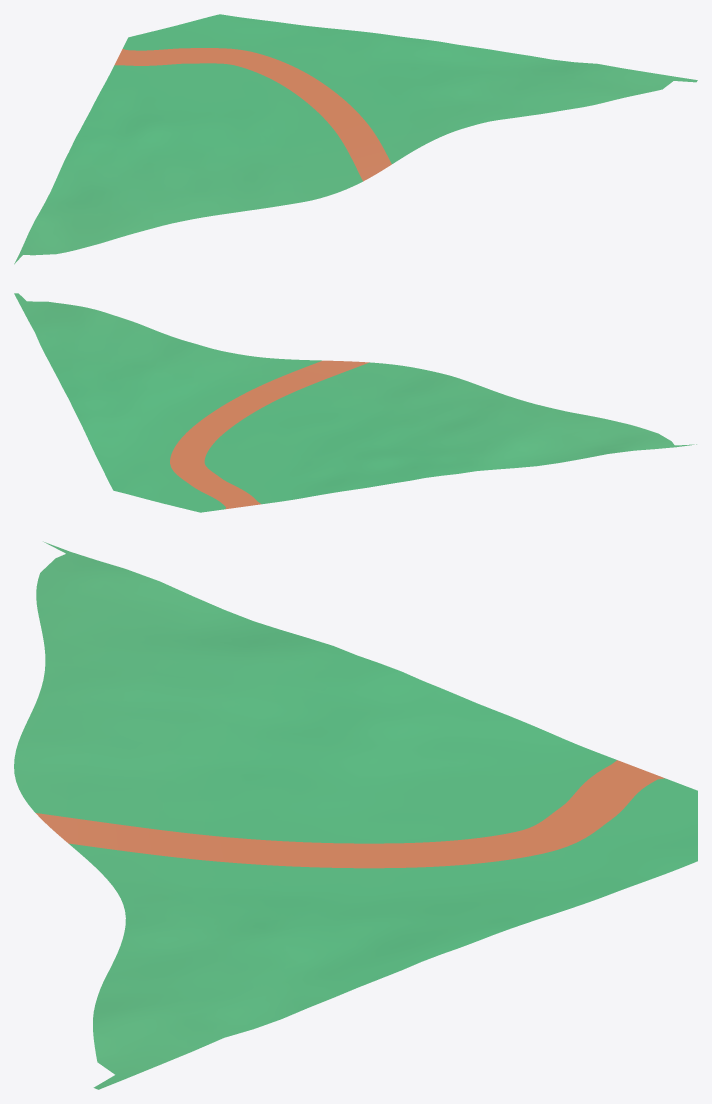
The model's file is terrain_menu_near.fbx.
The picture shows the model from 3 angles, top to bottom: view 1: azimuth 30°, elevation 25°; view 2: azimuth 150°, elevation 25°; view 3: azimuth 270°, elevation 25°; orthographic projection. The views are drawn at different scales.
Visible parts, largest first — view 1: terrain_menu_near; view 2: terrain_menu_near; view 3: terrain_menu_near.
Boxes of the visible parts, x1=… form: terrain_menu_near: x1=14, y1=14, x2=697, y2=264; terrain_menu_near: x1=14, y1=293, x2=696, y2=512; terrain_menu_near: x1=14, y1=541, x2=697, y2=1089.
Size of the model in its own units: 28.96 by 0.1611 by 15.24.
